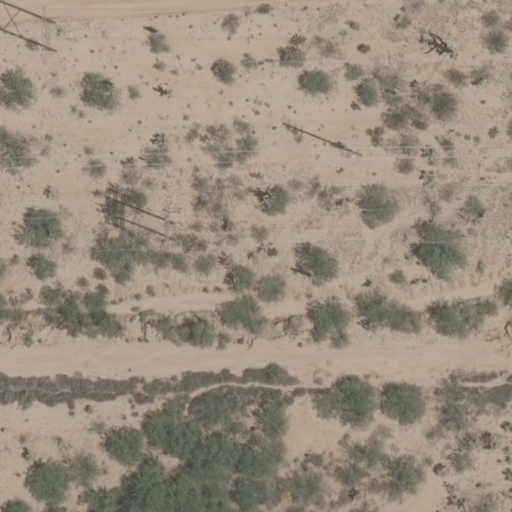DT: (284, 123, 354, 152)
TT: (101, 192, 172, 241)
